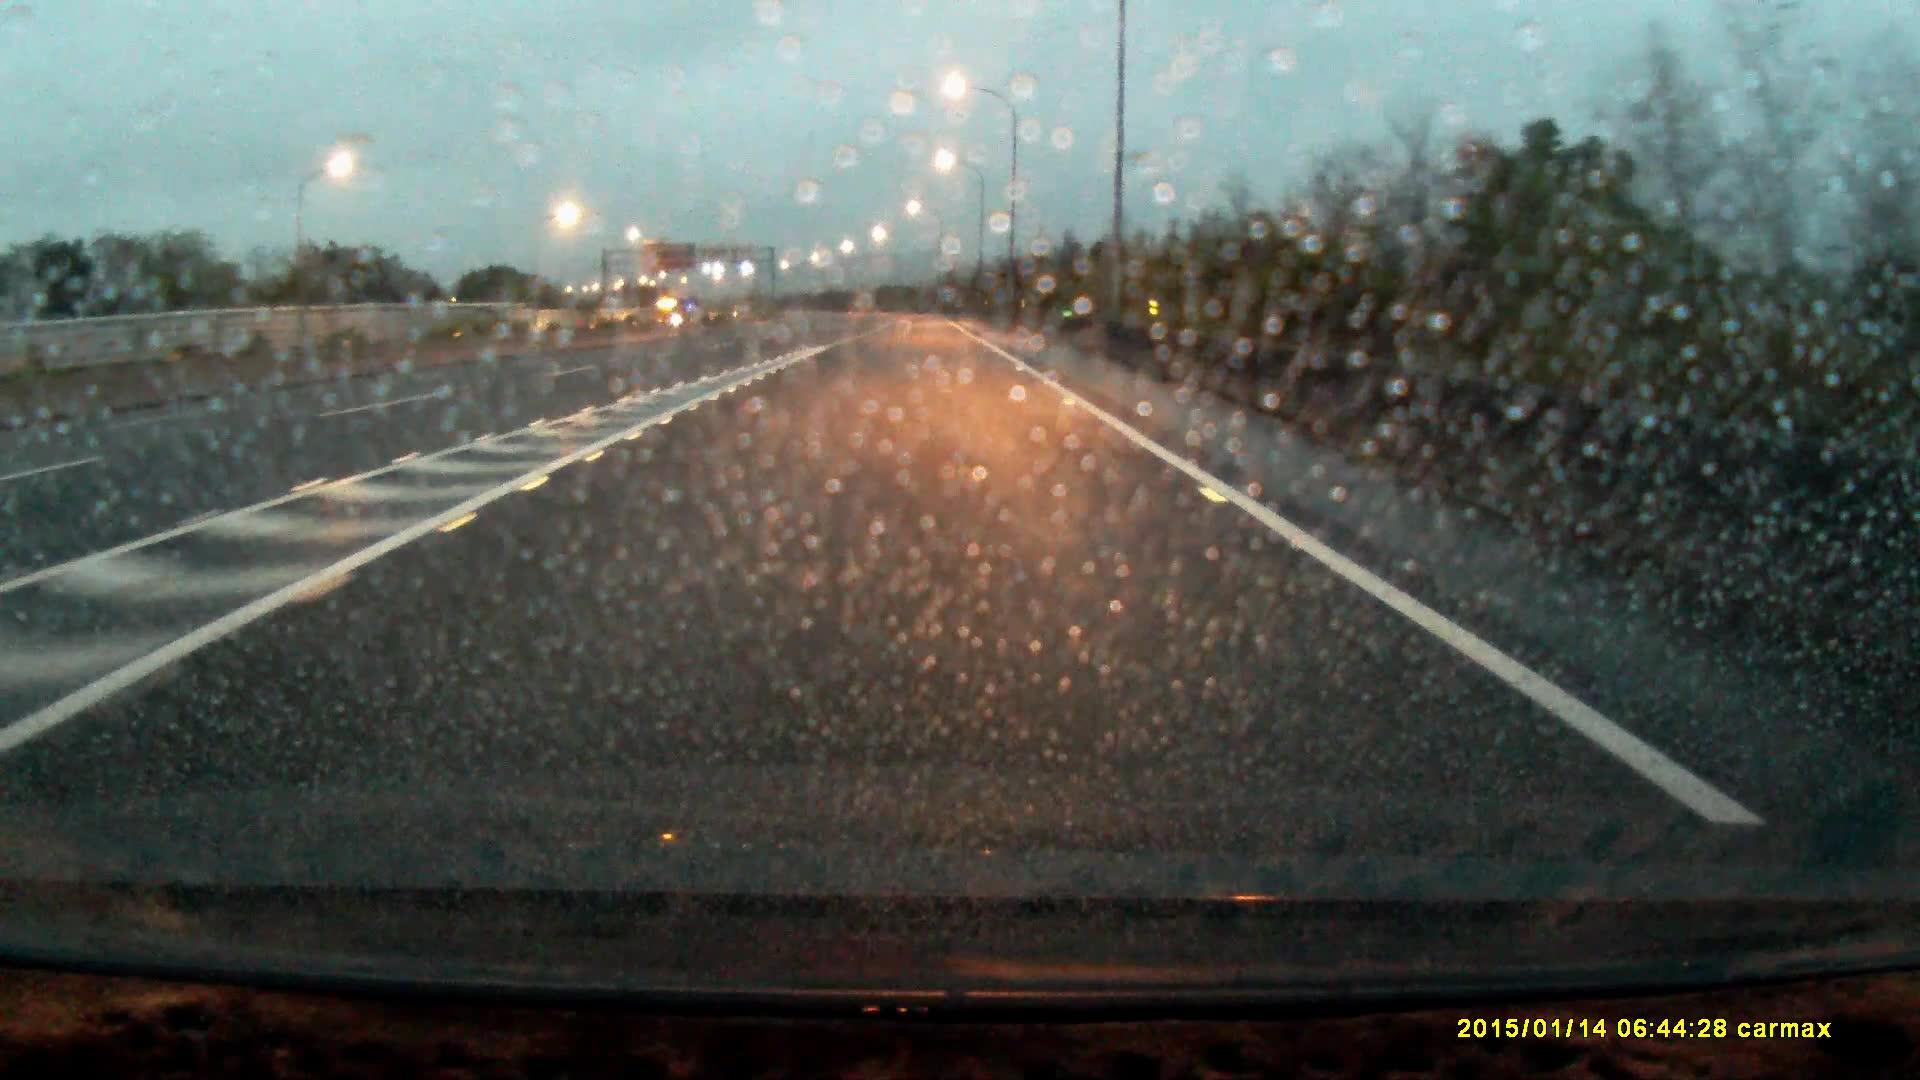vehicle: (655, 298, 688, 326)
